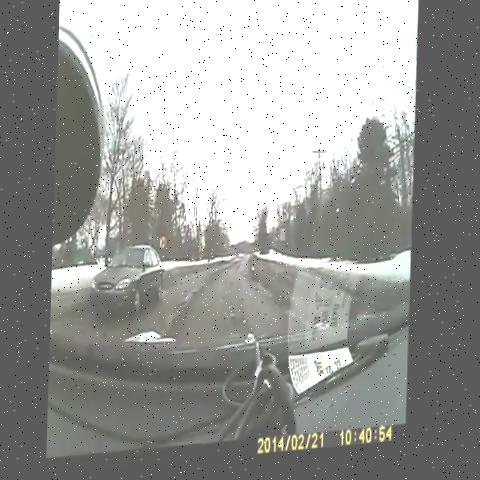pothole: (158, 285, 208, 346), (220, 300, 259, 341)
